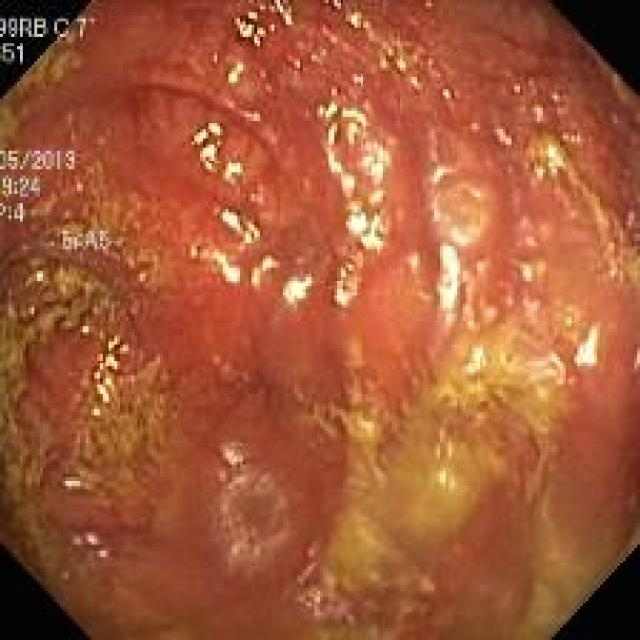ulcerative-colitis-grade-1: (80, 8, 636, 628)
